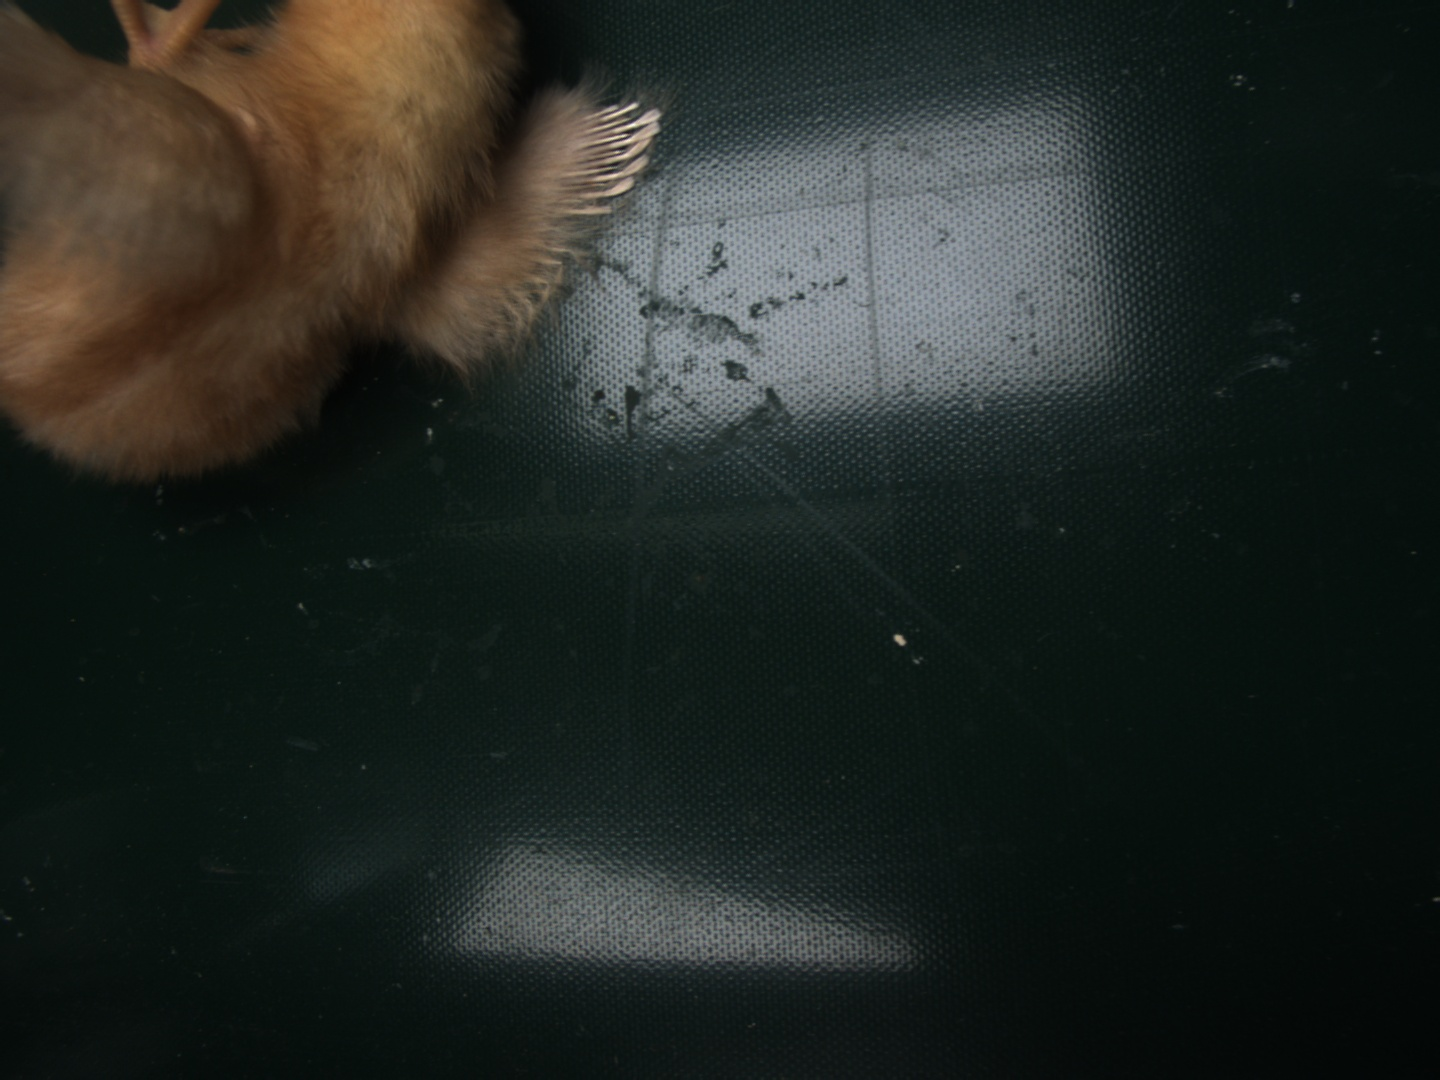female: (559, 101, 660, 214)
